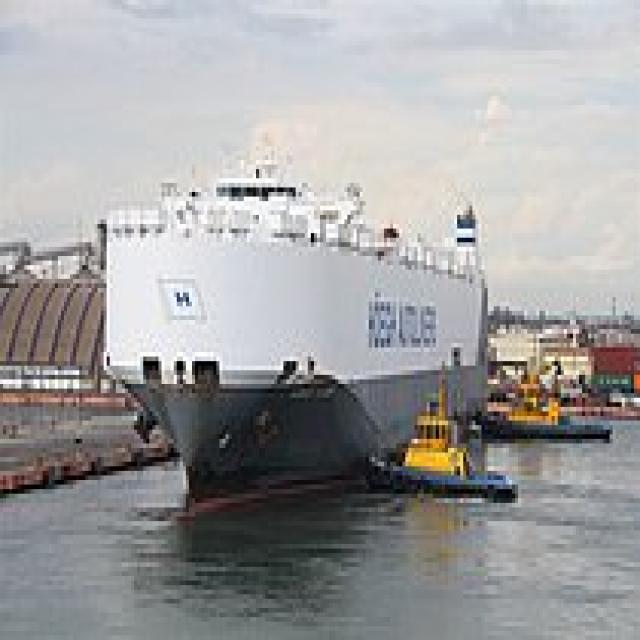Carrier: (98, 133, 490, 512)
